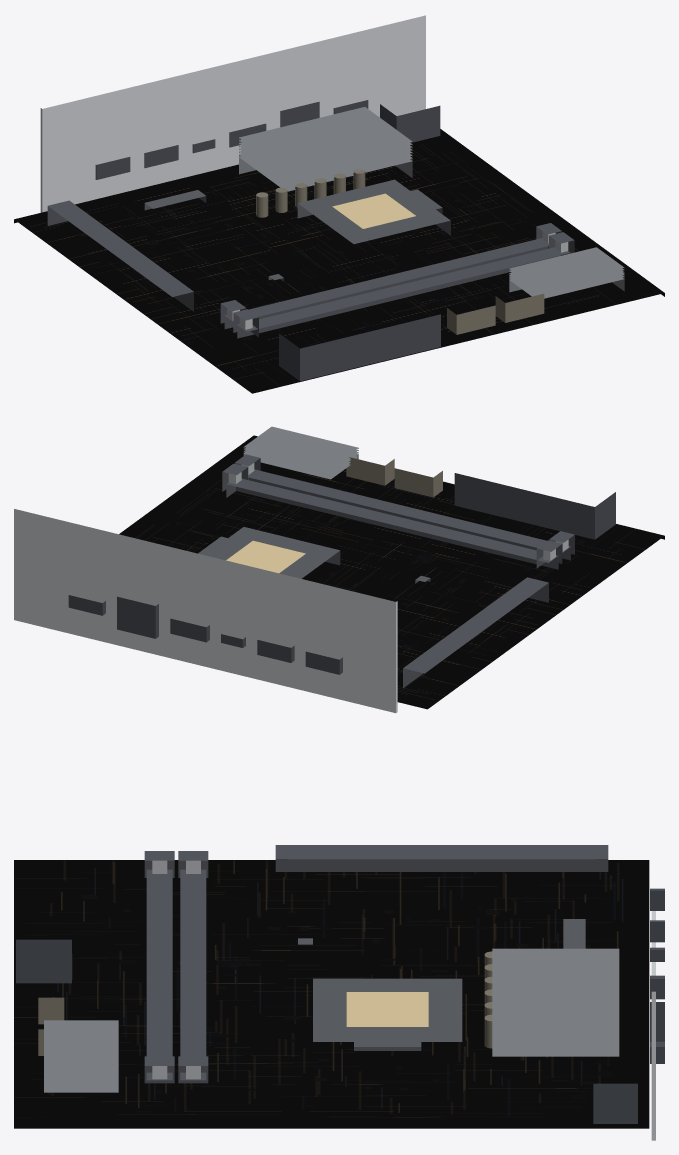
The model's file is mini-itx-motherboard.glb.
3 views of the same model, one above another, from view 1: azimuth 30°, elevation 25°; view 2: azimuth 150°, elevation 25°; view 3: azimuth 270°, elevation 25° (orthographic). The views are drawn at different scales.
Parts seen in each view (by area): view 1: PCB, E/S, DIMM (×2), VRM, ATX24, Socket, Chipset, PCIe, Puertos, SATA, Contactos, Capacitores (+2 smaller); view 2: E/S, PCB, DIMM (×2), ATX24, Puertos, Chipset, PCIe, Socket, SATA, Contactos; view 3: PCB, VRM, DIMM (×2), PCIe, Socket, Chipset, Contactos, ATX24, Puertos, EPS8, E/S, Capacitores (+2 smaller).
Boxes of the visible parts, x1,y1,x2,y2 form: PCB: [14, 129, 664, 393]; E/S: [40, 15, 425, 212]; DIMM (×2): [220, 223, 574, 338]; VRM: [239, 107, 412, 191]; ATX24: [279, 314, 440, 381]; Socket: [297, 179, 450, 243]; Chipset: [509, 247, 624, 298]; PCIe: [47, 200, 193, 311]; Puertos: [95, 100, 368, 179]; SATA: [447, 293, 544, 334]; Contactos: [332, 193, 415, 228]; Capacitores: [256, 168, 365, 217]; E/S: [14, 509, 397, 713]; PCB: [119, 435, 664, 709]; DIMM (×2): [222, 454, 574, 569]; ATX24: [454, 473, 615, 539]; Puertos: [68, 595, 342, 674]; Chipset: [243, 426, 358, 479]; PCIe: [403, 577, 548, 688]; Socket: [198, 527, 340, 578]; SATA: [346, 457, 442, 497]; Contactos: [226, 540, 305, 573]; PCB: [14, 860, 649, 1128]; VRM: [492, 948, 619, 1056]; DIMM (×2): [144, 851, 208, 1083]; PCIe: [275, 845, 608, 871]; Socket: [313, 978, 462, 1050]; Chipset: [44, 1020, 118, 1092]; Contactos: [346, 992, 428, 1026]; ATX24: [16, 939, 71, 983]; Puertos: [650, 888, 664, 1063]; EPS8: [593, 1083, 637, 1123]; E/S: [651, 911, 655, 1140]; Capacitores: [484, 951, 492, 1048].
Size of the model in its own units: 0.17 by 0.0448 by 0.1742.
Materials: 9 (1 with a texture image).
